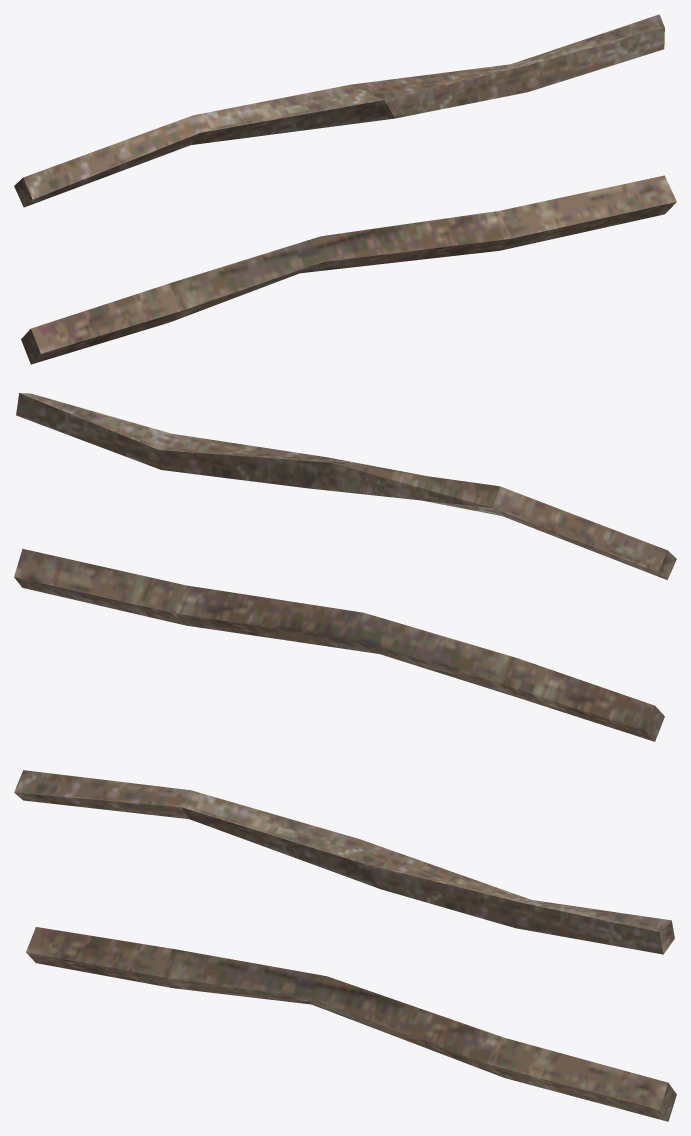
File: WoodRailFence_Panel_Closed_Model.fbx
3 views of the same model, one above another, from view 1: azimuth 30°, elevation 25°; view 2: azimuth 150°, elevation 25°; view 3: azimuth 330°, elevation 25° (orthographic).
Visible parts, largest first — view 1: Body; view 2: Body; view 3: Body.
Part boxes in pixels (left/top/right/bottom): Body: left=14, top=14, right=676, bottom=364; Body: left=14, top=393, right=676, bottom=741; Body: left=14, top=770, right=676, bottom=1121.
Size of the model in its own units: 200 by 64.03 by 12.92.
